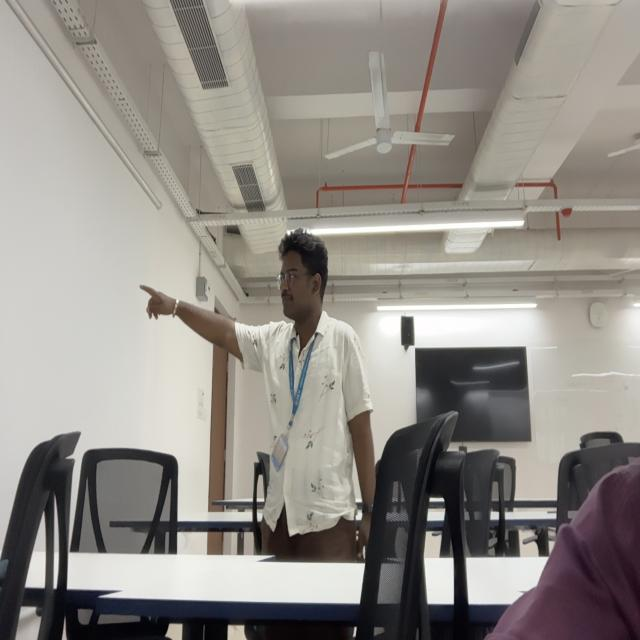sai: (277, 233, 330, 314)
